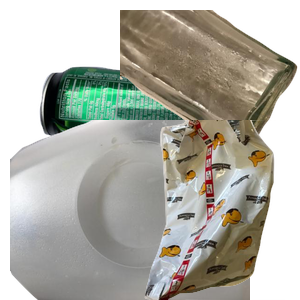glass: (120, 10, 300, 153)
metal: (37, 64, 245, 214)
plastic: (10, 120, 250, 300)
trash: (127, 120, 300, 300)
